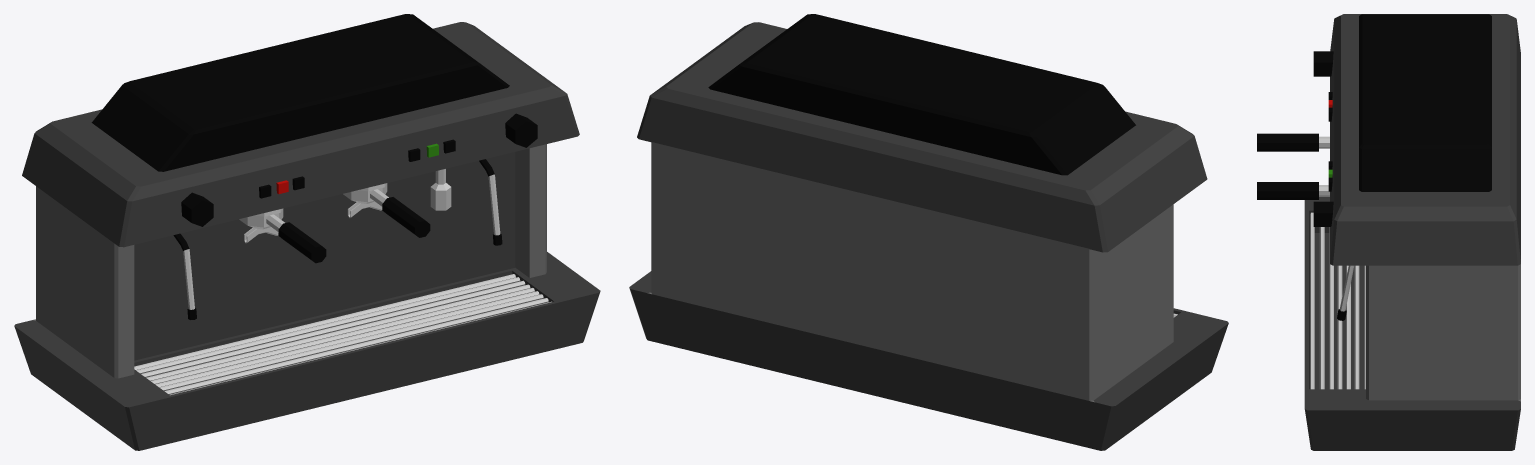
Rendered from C_Coffe_Machine.fbx.
3 renders of one model, left to right at view 1: azimuth 30°, elevation 25°; view 2: azimuth 150°, elevation 25°; view 3: azimuth 270°, elevation 25°, orthographic. The views are drawn at different scales.
Visible parts, largest first — view 1: C_Coffe_Machine; view 2: C_Coffe_Machine; view 3: C_Coffe_Machine.
Part boxes in pixels (left/top/right/bottom): C_Coffe_Machine: left=14, top=14, right=600, bottom=450; C_Coffe_Machine: left=629, top=14, right=1228, bottom=450; C_Coffe_Machine: left=1257, top=14, right=1520, bottom=450.
Bounding box in the file's own units: 719 × 363 × 406.
